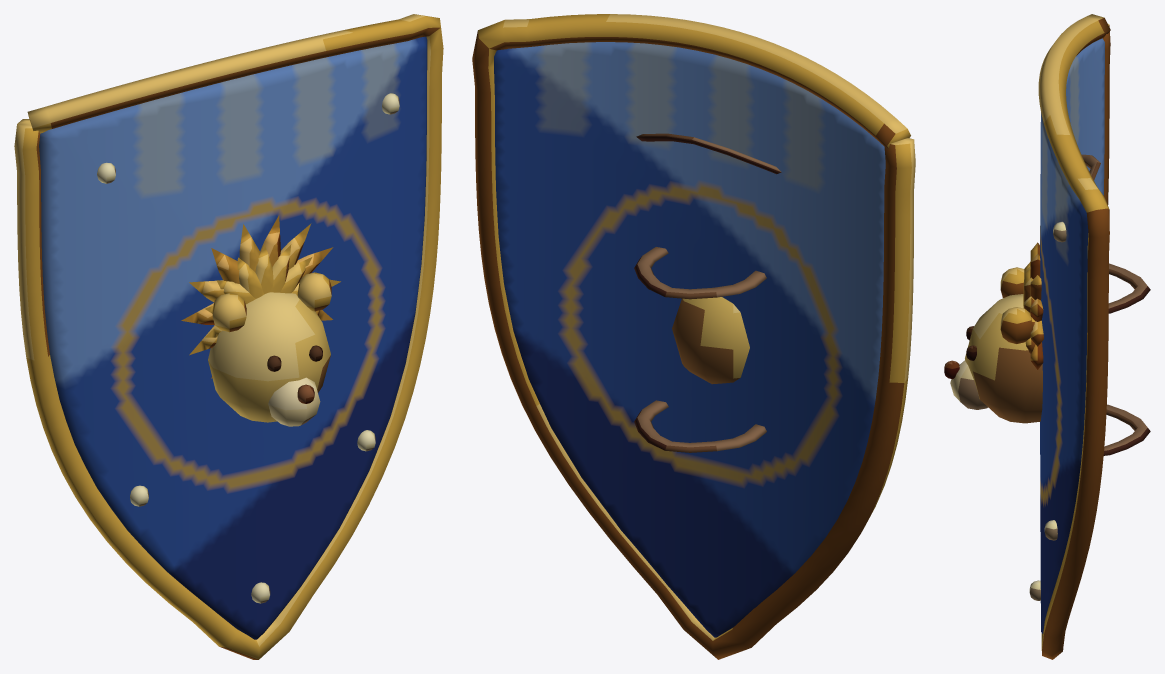
File: sh_lion_shield.glb
3 renders of one model, left to right at view 1: azimuth 30°, elevation 25°; view 2: azimuth 150°, elevation 25°; view 3: azimuth 270°, elevation 25°, orthographic. The views are drawn at different scales.
Visible parts, largest first — view 1: Weapon; view 2: Weapon; view 3: Weapon.
Boxes of the visible parts, x1,y1,x2,y2 form: Weapon: (14, 14, 443, 659); Weapon: (472, 14, 915, 659); Weapon: (944, 14, 1150, 659).
Size of the model in its own units: 0.4508 by 0.6147 by 0.1984.
